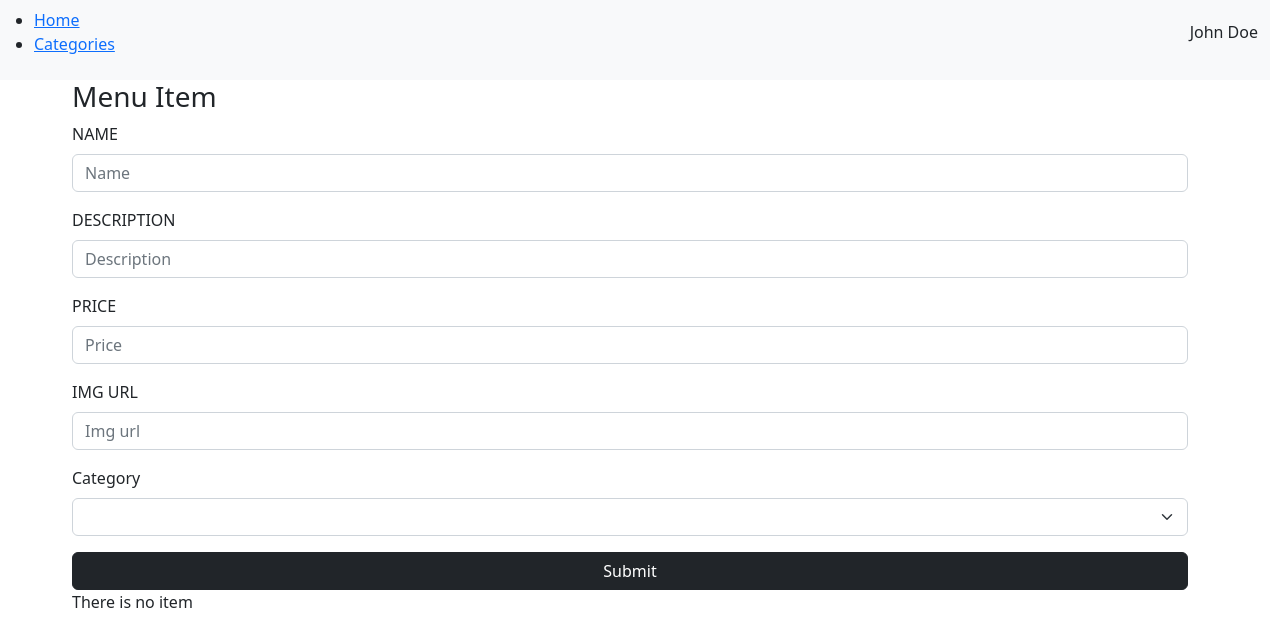
Test: App › should render category page when navigate link category clicked
The image size is (1270, 625).
Click the link with test id "link-category".
click(74, 44)  # box [34,33,115,55]
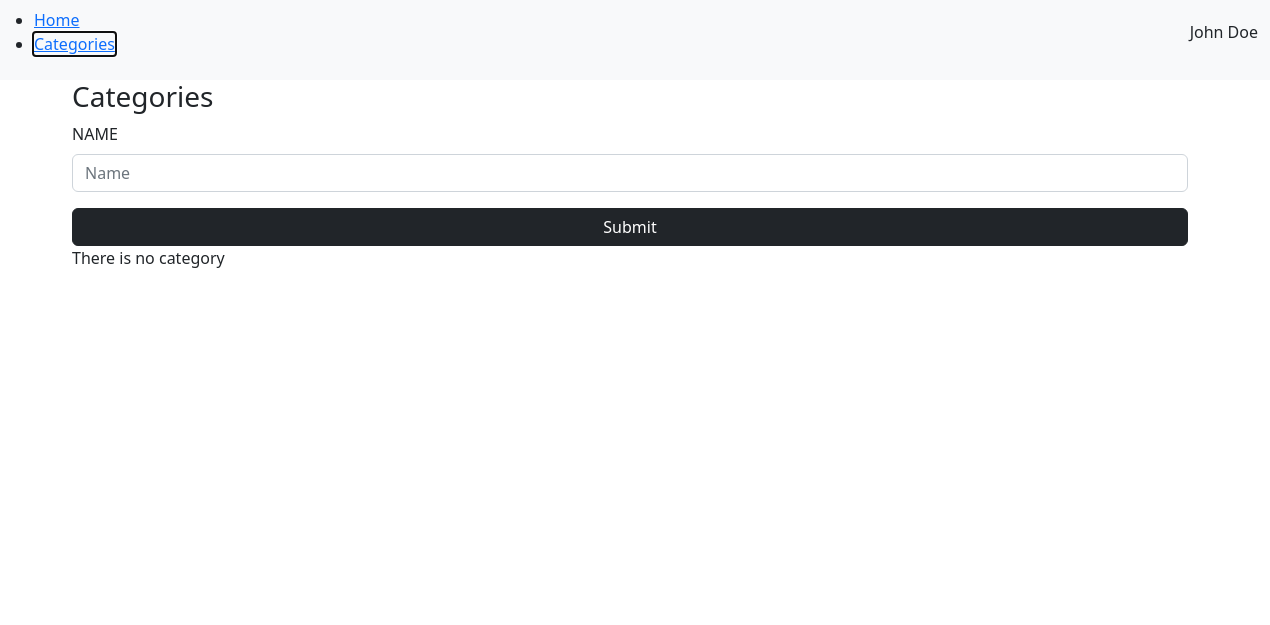
Check: the text "There is no category" is shown, box [72,247,225,269]
